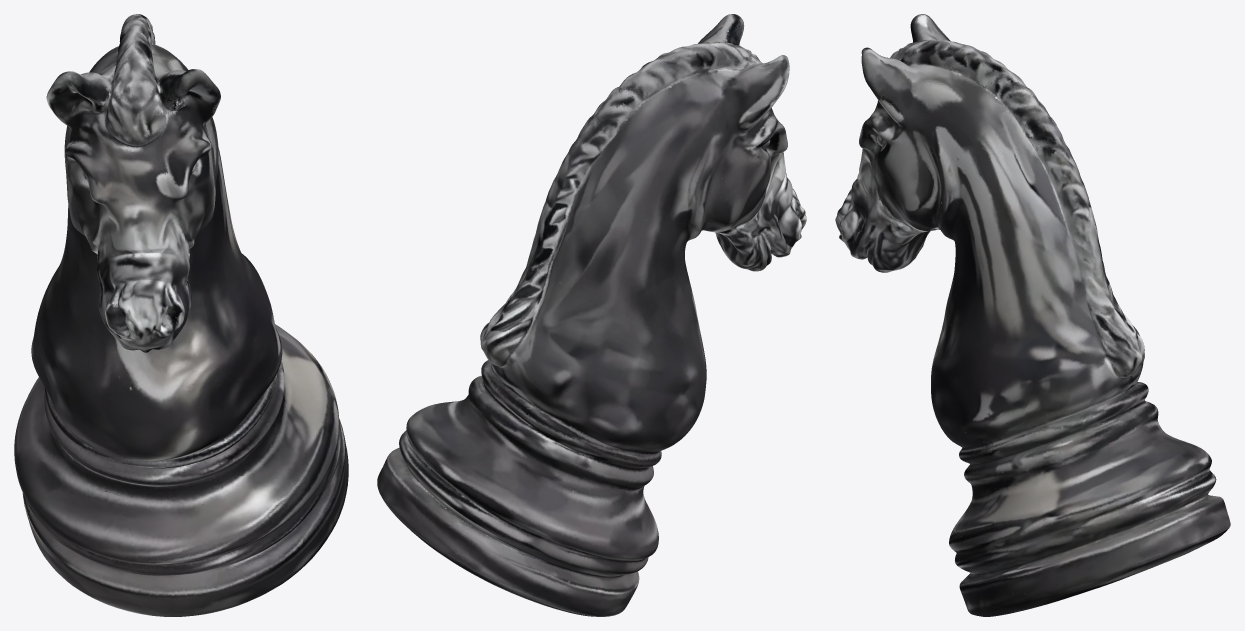
File: knight.glb
3 views of the same model, side by side, from view 1: azimuth 30°, elevation 25°; view 2: azimuth 150°, elevation 25°; view 3: azimuth 270°, elevation 25° (orthographic). The views are drawn at different scales.
Visible parts, largest first — view 1: knight; view 2: knight; view 3: knight.
Part boxes in pixels (x1,y1,x2,y2): knight: (14, 14, 348, 616); knight: (377, 14, 806, 616); knight: (835, 14, 1230, 616).
Size of the model in its own units: 0.276 by 0.4478 by 0.304.
1 material, 1 textured.
